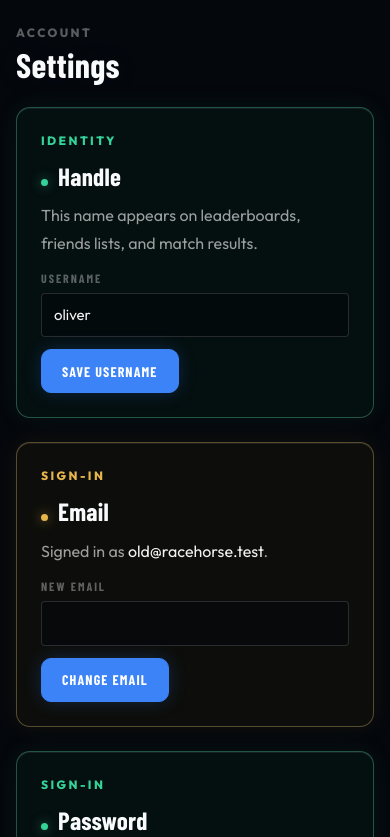
Test: SettingsScreen — handle › surfaces a rejected handle rather than reporting success
Replace the text in the field labelled "Username" with "taken" at (195, 315), box x1=41 y1=293 x2=349 y2=337
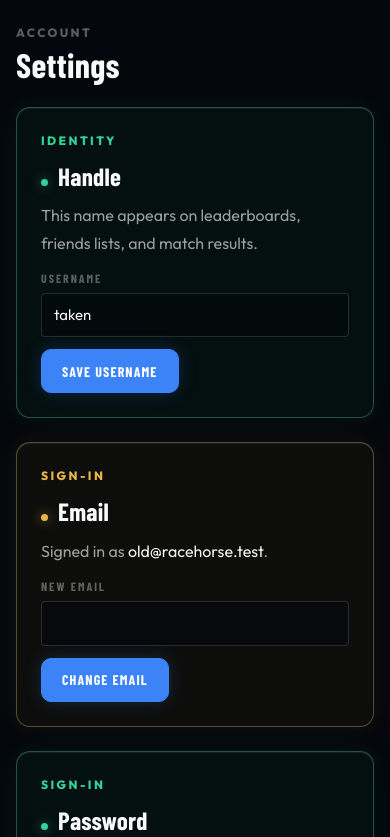
Click the button "Save username".
click(110, 371)  # box x1=41 y1=349 x2=179 y2=393
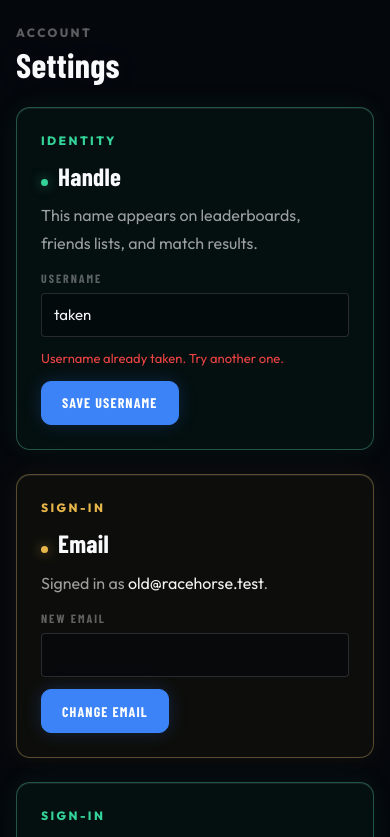
Expected: the text "Username already taken. Try another one." is shown, x1=41 y1=349 x2=284 y2=369
